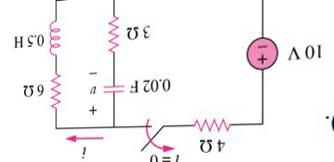inductor: (41, 12, 66, 57)
